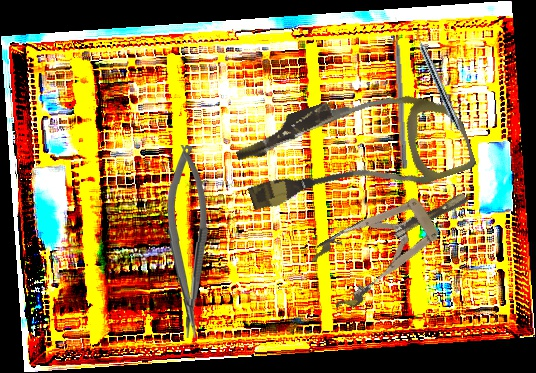Cannula: (229, 63, 478, 237)
Handpiece: (410, 26, 465, 132)
Needle Holder: (164, 145, 210, 338)
Pusher: (393, 16, 409, 170)
Speculum: (304, 167, 485, 315)
